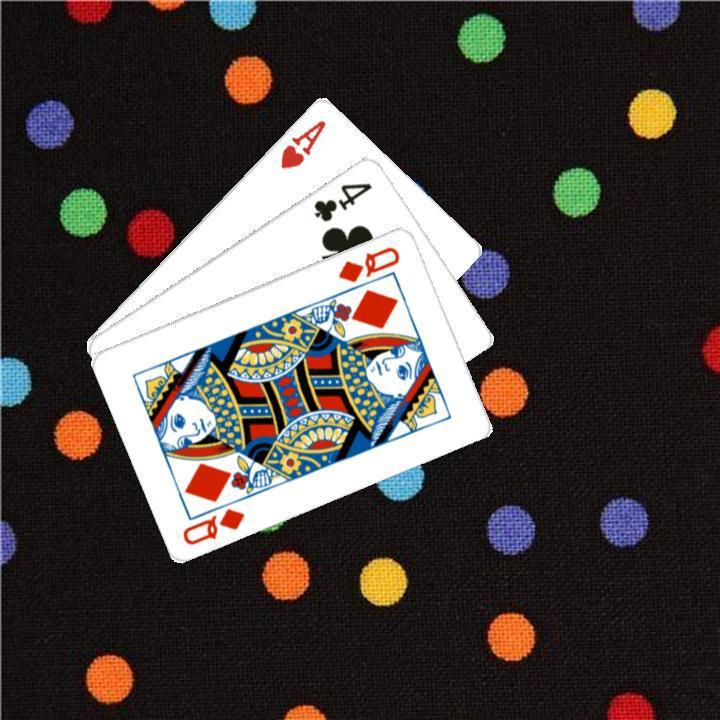4: (309, 177, 374, 224)
A: (275, 115, 328, 171)
Q: (178, 503, 247, 547), (333, 241, 402, 284)
